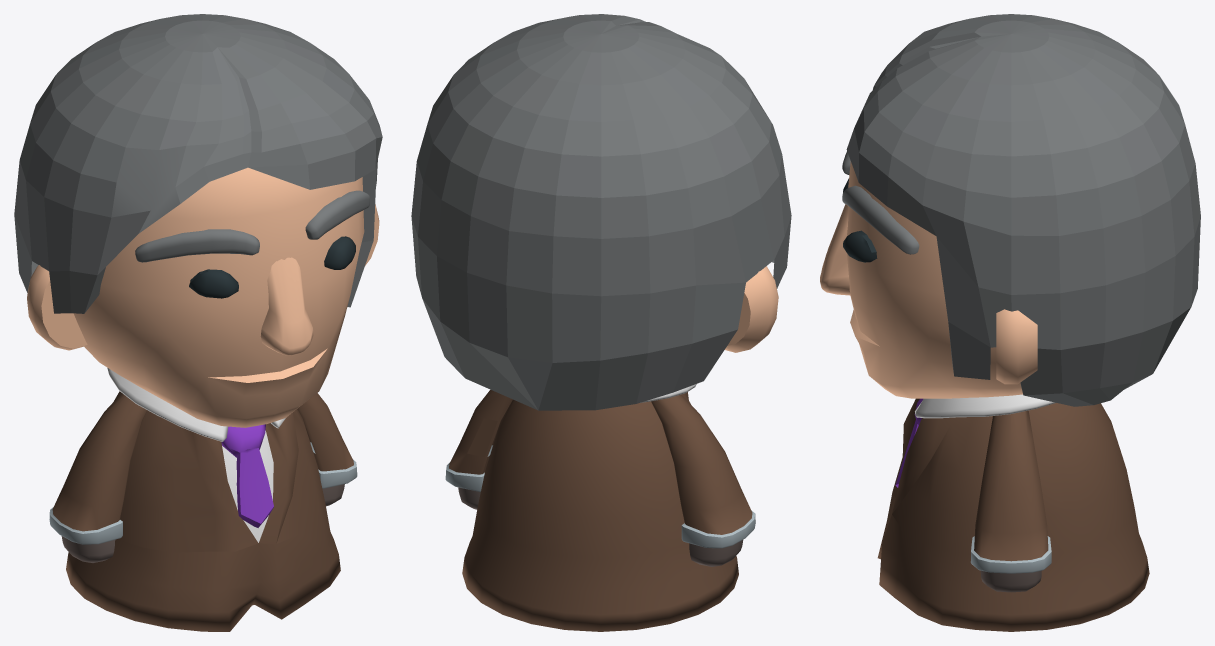
File: giannibal_character_base.fbx
The picture shows the model from 3 angles, left to right: view 1: azimuth 30°, elevation 25°; view 2: azimuth 150°, elevation 25°; view 3: azimuth 270°, elevation 25°; orthographic projection.
Parts seen in each view (by area): view 1: character_mageHead, character_mageBody0, character_mageArmRight, character_mageArmLeft; view 2: character_mageHead, character_mageBody0, character_mageArmRight, character_mageArmLeft; view 3: character_mageHead, character_mageBody0, character_mageArmLeft.
Part boxes in pixels (x1=…): character_mageHead: x1=14, y1=14, x2=382, y2=427; character_mageBody0: x1=66, y1=368, x2=340, y2=631; character_mageArmRight: x1=49, y1=393, x2=147, y2=562; character_mageArmLeft: x1=297, y1=393, x2=357, y2=506; character_mageHead: x1=411, y1=14, x2=791, y2=410; character_mageBody0: x1=462, y1=384, x2=738, y2=631; character_mageArmRight: x1=651, y1=394, x2=755, y2=566; character_mageArmLeft: x1=445, y1=389, x2=512, y2=509; character_mageHead: x1=820, y1=14, x2=1200, y2=406; character_mageBody0: x1=877, y1=394, x2=1149, y2=631; character_mageArmLeft: x1=970, y1=410, x2=1051, y2=592.
Bounding box in the file's own units: 118 × 177 × 112.
